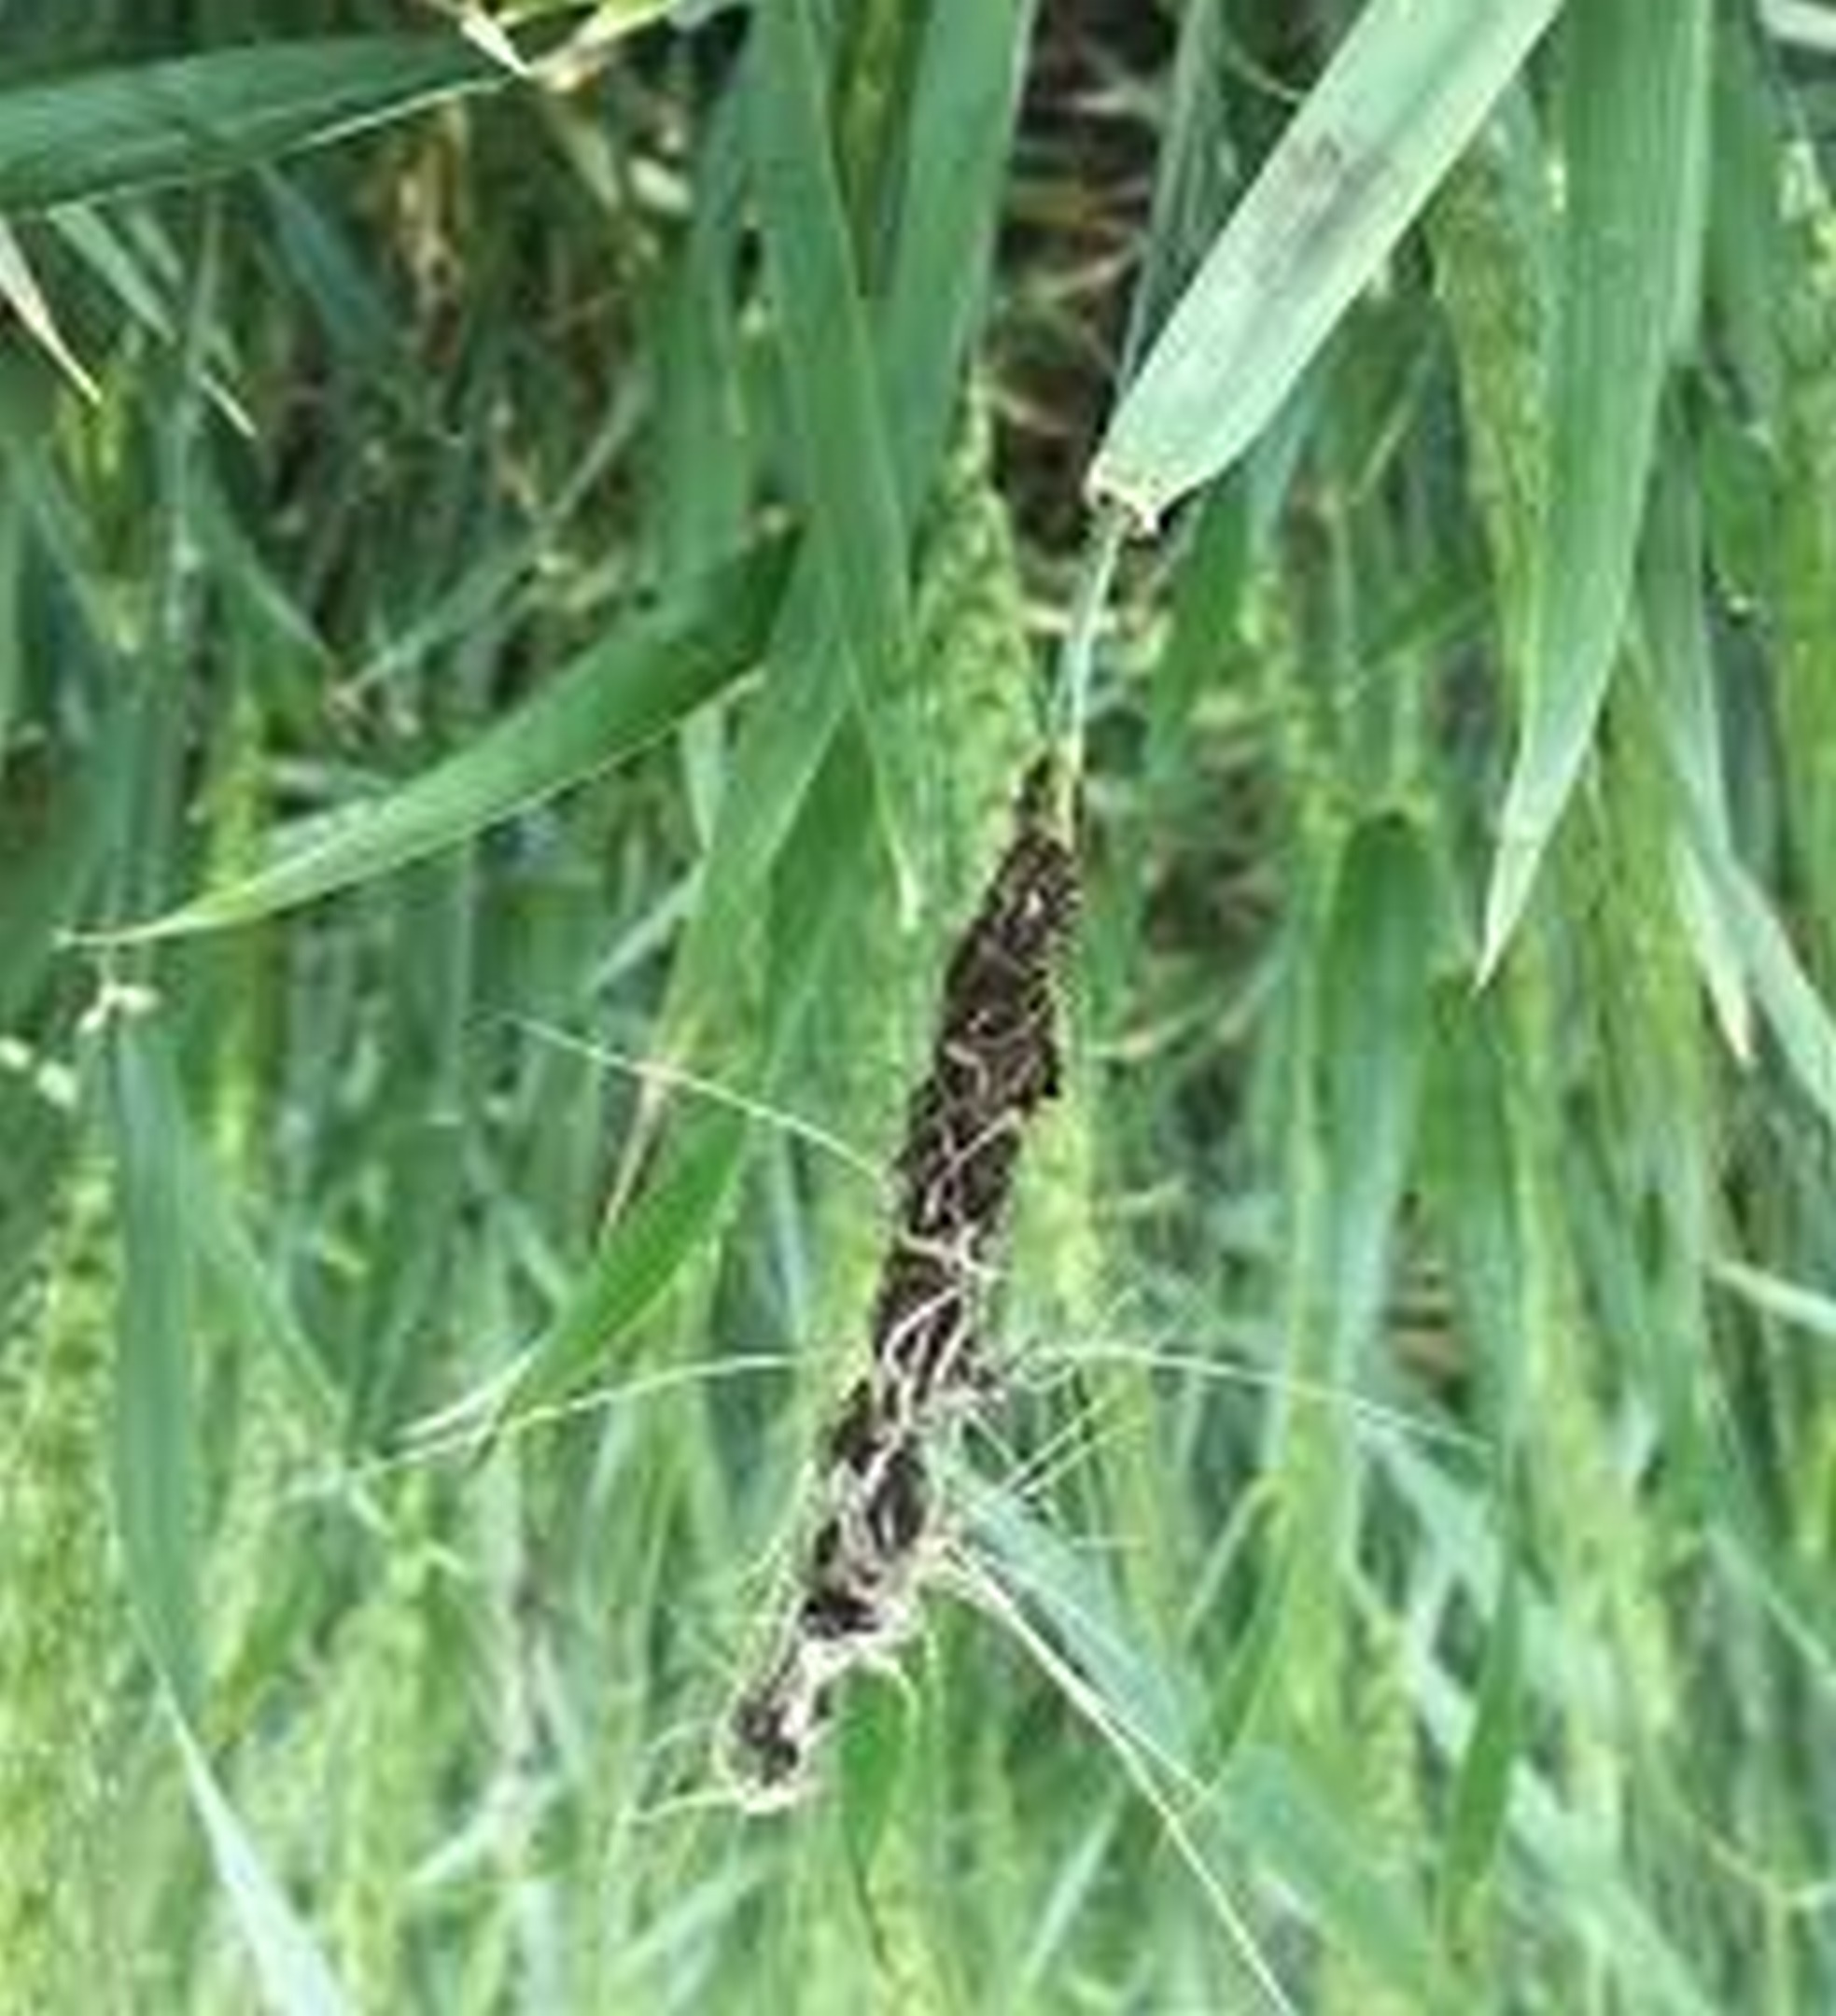Wheat Loose Smut: (706, 827, 1121, 1800)
